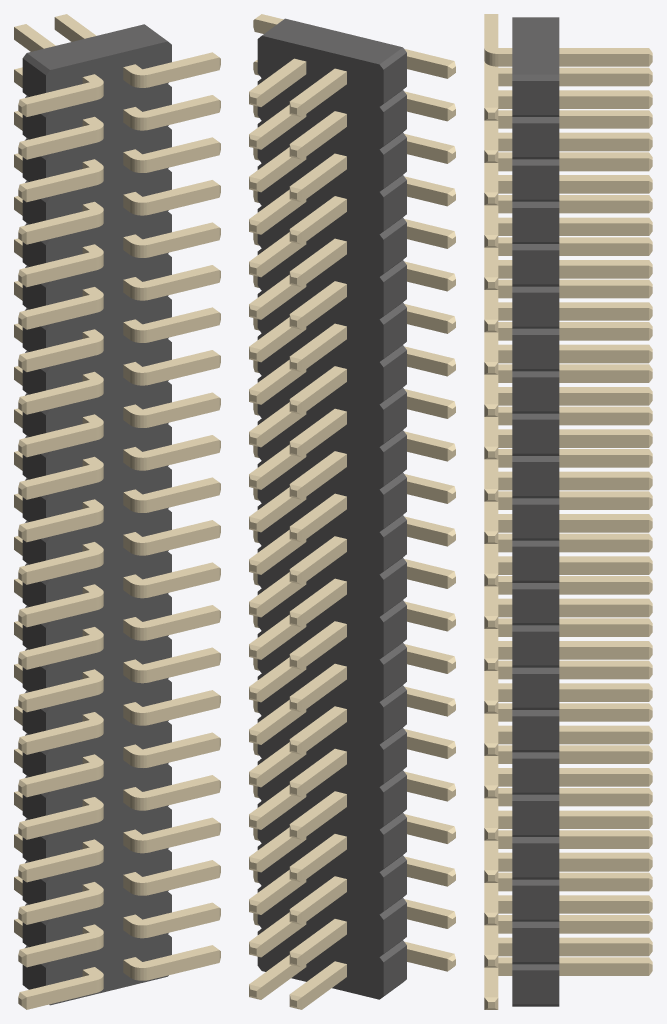
The model's file is PinHeader_2x22_P1.00mm_Vertical_SMD.glb.
The picture shows the model from 3 angles, left to right: view 1: azimuth 30°, elevation 25°; view 2: azimuth 150°, elevation 25°; view 3: azimuth 270°, elevation 25°; orthographic projection.
Parts seen in each view (by area): view 1: Shape_IndexedFaceSet.003, Shape_IndexedFaceSet.001, Shape_IndexedFaceSet.631, Shape_IndexedFaceSet.521, Shape_IndexedFaceSet.636, Shape_IndexedFaceSet.686, Shape_IndexedFaceSet.696, Shape_IndexedFaceSet.501, Shape_IndexedFaceSet.511, Shape_IndexedFaceSet.536, Shape_IndexedFaceSet.506, Shape_IndexedFaceSet.516 (+100 smaller); view 2: Shape_IndexedFaceSet.004, Shape_IndexedFaceSet.001, Shape_IndexedFaceSet.049, Shape_IndexedFaceSet.013, Shape_IndexedFaceSet.025, Shape_IndexedFaceSet.037, Shape_IndexedFaceSet.043, Shape_IndexedFaceSet.061, Shape_IndexedFaceSet.067, Shape_IndexedFaceSet.073, Shape_IndexedFaceSet.079, Shape_IndexedFaceSet.085 (+101 smaller); view 3: Shape_IndexedFaceSet.001, Shape_IndexedFaceSet.016, Shape_IndexedFaceSet.028, Shape_IndexedFaceSet.034, Shape_IndexedFaceSet.046, Shape_IndexedFaceSet.052, Shape_IndexedFaceSet.070, Shape_IndexedFaceSet.100, Shape_IndexedFaceSet.112, Shape_IndexedFaceSet.118, Shape_IndexedFaceSet.130, Shape_IndexedFaceSet.064 (+122 smaller).
Part boxes in pixels (left/top/right/bottom): Shape_IndexedFaceSet.003: left=46, top=41, right=171, bottom=1005; Shape_IndexedFaceSet.001: left=27, top=24, right=167, bottom=69; Shape_IndexedFaceSet.631: left=149, top=142, right=219, bottom=171; Shape_IndexedFaceSet.521: left=149, top=440, right=219, bottom=469; Shape_IndexedFaceSet.636: left=26, top=172, right=96, bottom=201; Shape_IndexedFaceSet.686: left=149, top=865, right=219, bottom=894; Shape_IndexedFaceSet.696: left=26, top=895, right=96, bottom=924; Shape_IndexedFaceSet.501: left=149, top=567, right=219, bottom=597; Shape_IndexedFaceSet.511: left=26, top=597, right=96, bottom=627; Shape_IndexedFaceSet.536: left=26, top=470, right=96, bottom=499; Shape_IndexedFaceSet.506: left=149, top=610, right=219, bottom=639; Shape_IndexedFaceSet.516: left=26, top=640, right=96, bottom=669; Shape_IndexedFaceSet.004: left=257, top=36, right=383, bottom=999; Shape_IndexedFaceSet.001: left=262, top=18, right=402, bottom=64; Shape_IndexedFaceSet.049: left=383, top=350, right=406, bottom=400; Shape_IndexedFaceSet.013: left=383, top=95, right=406, bottom=145; Shape_IndexedFaceSet.025: left=383, top=180, right=406, bottom=230; Shape_IndexedFaceSet.037: left=383, top=265, right=406, bottom=315; Shape_IndexedFaceSet.043: left=383, top=308, right=406, bottom=358; Shape_IndexedFaceSet.061: left=383, top=435, right=406, bottom=485; Shape_IndexedFaceSet.067: left=383, top=478, right=406, bottom=528; Shape_IndexedFaceSet.073: left=383, top=520, right=406, bottom=570; Shape_IndexedFaceSet.079: left=383, top=563, right=406, bottom=613; Shape_IndexedFaceSet.085: left=383, top=605, right=406, bottom=655; Shape_IndexedFaceSet.001: left=512, top=17, right=559, bottom=74; Shape_IndexedFaceSet.016: left=512, top=165, right=559, bottom=199; Shape_IndexedFaceSet.028: left=512, top=250, right=559, bottom=284; Shape_IndexedFaceSet.034: left=512, top=292, right=559, bottom=326; Shape_IndexedFaceSet.046: left=512, top=377, right=559, bottom=411; Shape_IndexedFaceSet.052: left=512, top=419, right=559, bottom=453; Shape_IndexedFaceSet.070: left=512, top=546, right=559, bottom=580; Shape_IndexedFaceSet.100: left=512, top=758, right=559, bottom=792; Shape_IndexedFaceSet.112: left=512, top=843, right=559, bottom=877; Shape_IndexedFaceSet.118: left=512, top=885, right=559, bottom=919; Shape_IndexedFaceSet.130: left=512, top=970, right=559, bottom=1004; Shape_IndexedFaceSet.064: left=512, top=504, right=559, bottom=538.
Size of the model in its own units: 1.93 by 8.66 by 1.42.
